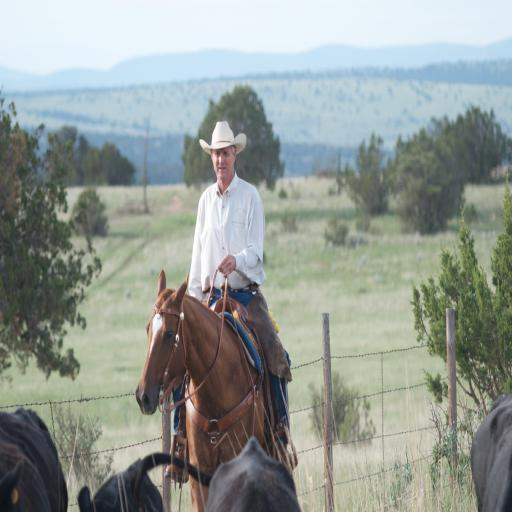horse: (134, 268, 267, 512)
